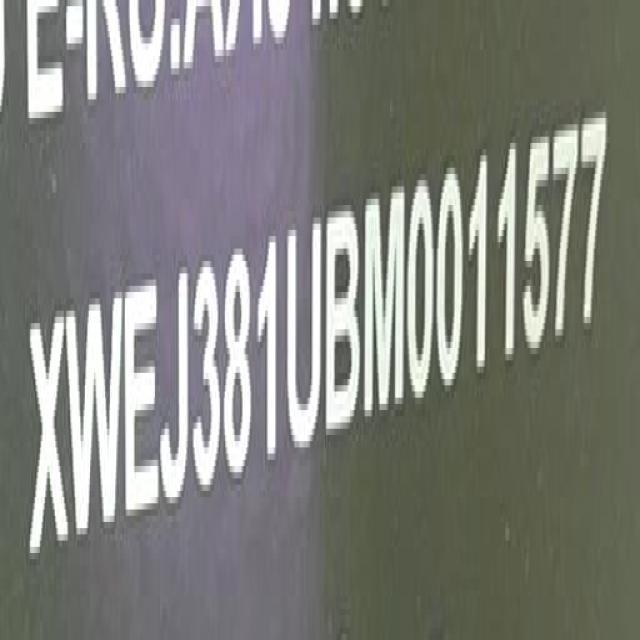0: (436, 166, 464, 397), (410, 171, 436, 410)
1: (257, 229, 281, 479), (498, 132, 522, 377), (467, 149, 487, 387)
3: (193, 257, 224, 497)
5: (524, 123, 552, 368)
7: (581, 103, 610, 355), (555, 111, 580, 357)
8: (223, 249, 253, 486)
B: (325, 202, 363, 443)
E: (126, 282, 162, 530)
J: (161, 274, 191, 514)
M: (366, 178, 408, 426)
U: (284, 214, 324, 458)
W: (68, 291, 124, 549)
X: (31, 312, 68, 570)
